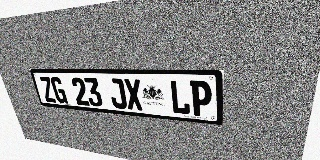2: (70, 77, 90, 106)
3: (84, 78, 103, 107)
G: (50, 77, 68, 104)
J: (107, 78, 128, 109)
L: (169, 80, 190, 115)
P: (190, 80, 212, 117)
X: (123, 79, 144, 111)
Z: (38, 77, 57, 103)
